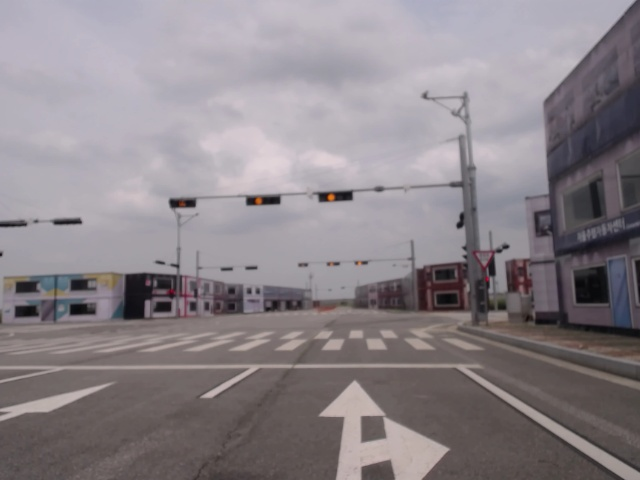orange_4: (318, 190, 354, 202), (247, 194, 282, 205), (327, 260, 341, 267), (354, 260, 370, 266)
